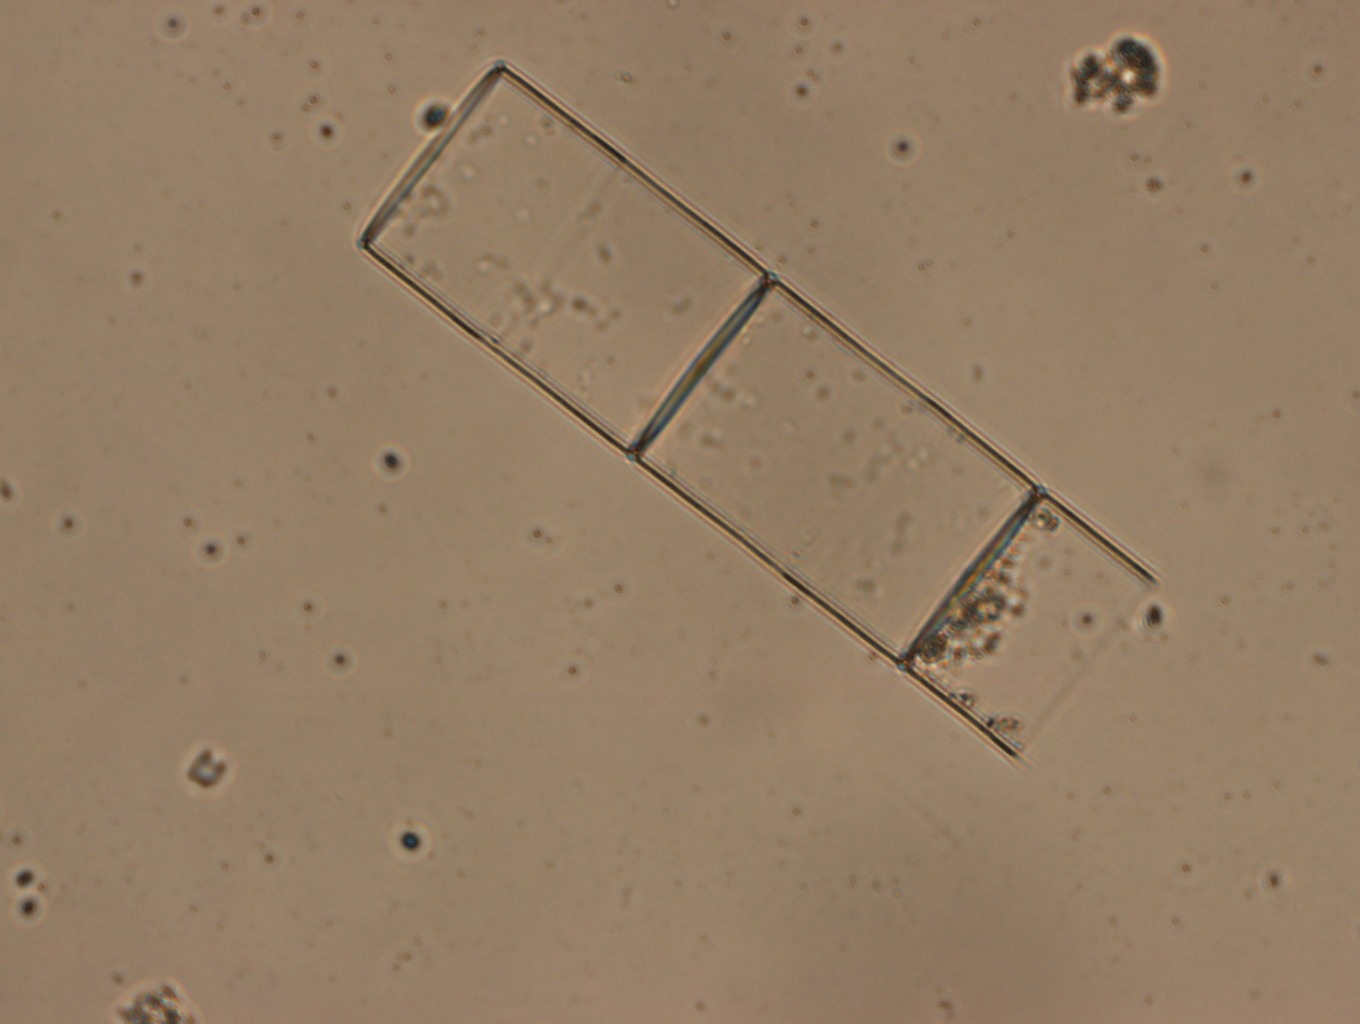guinardia flaccida: (358, 61, 1157, 763)
